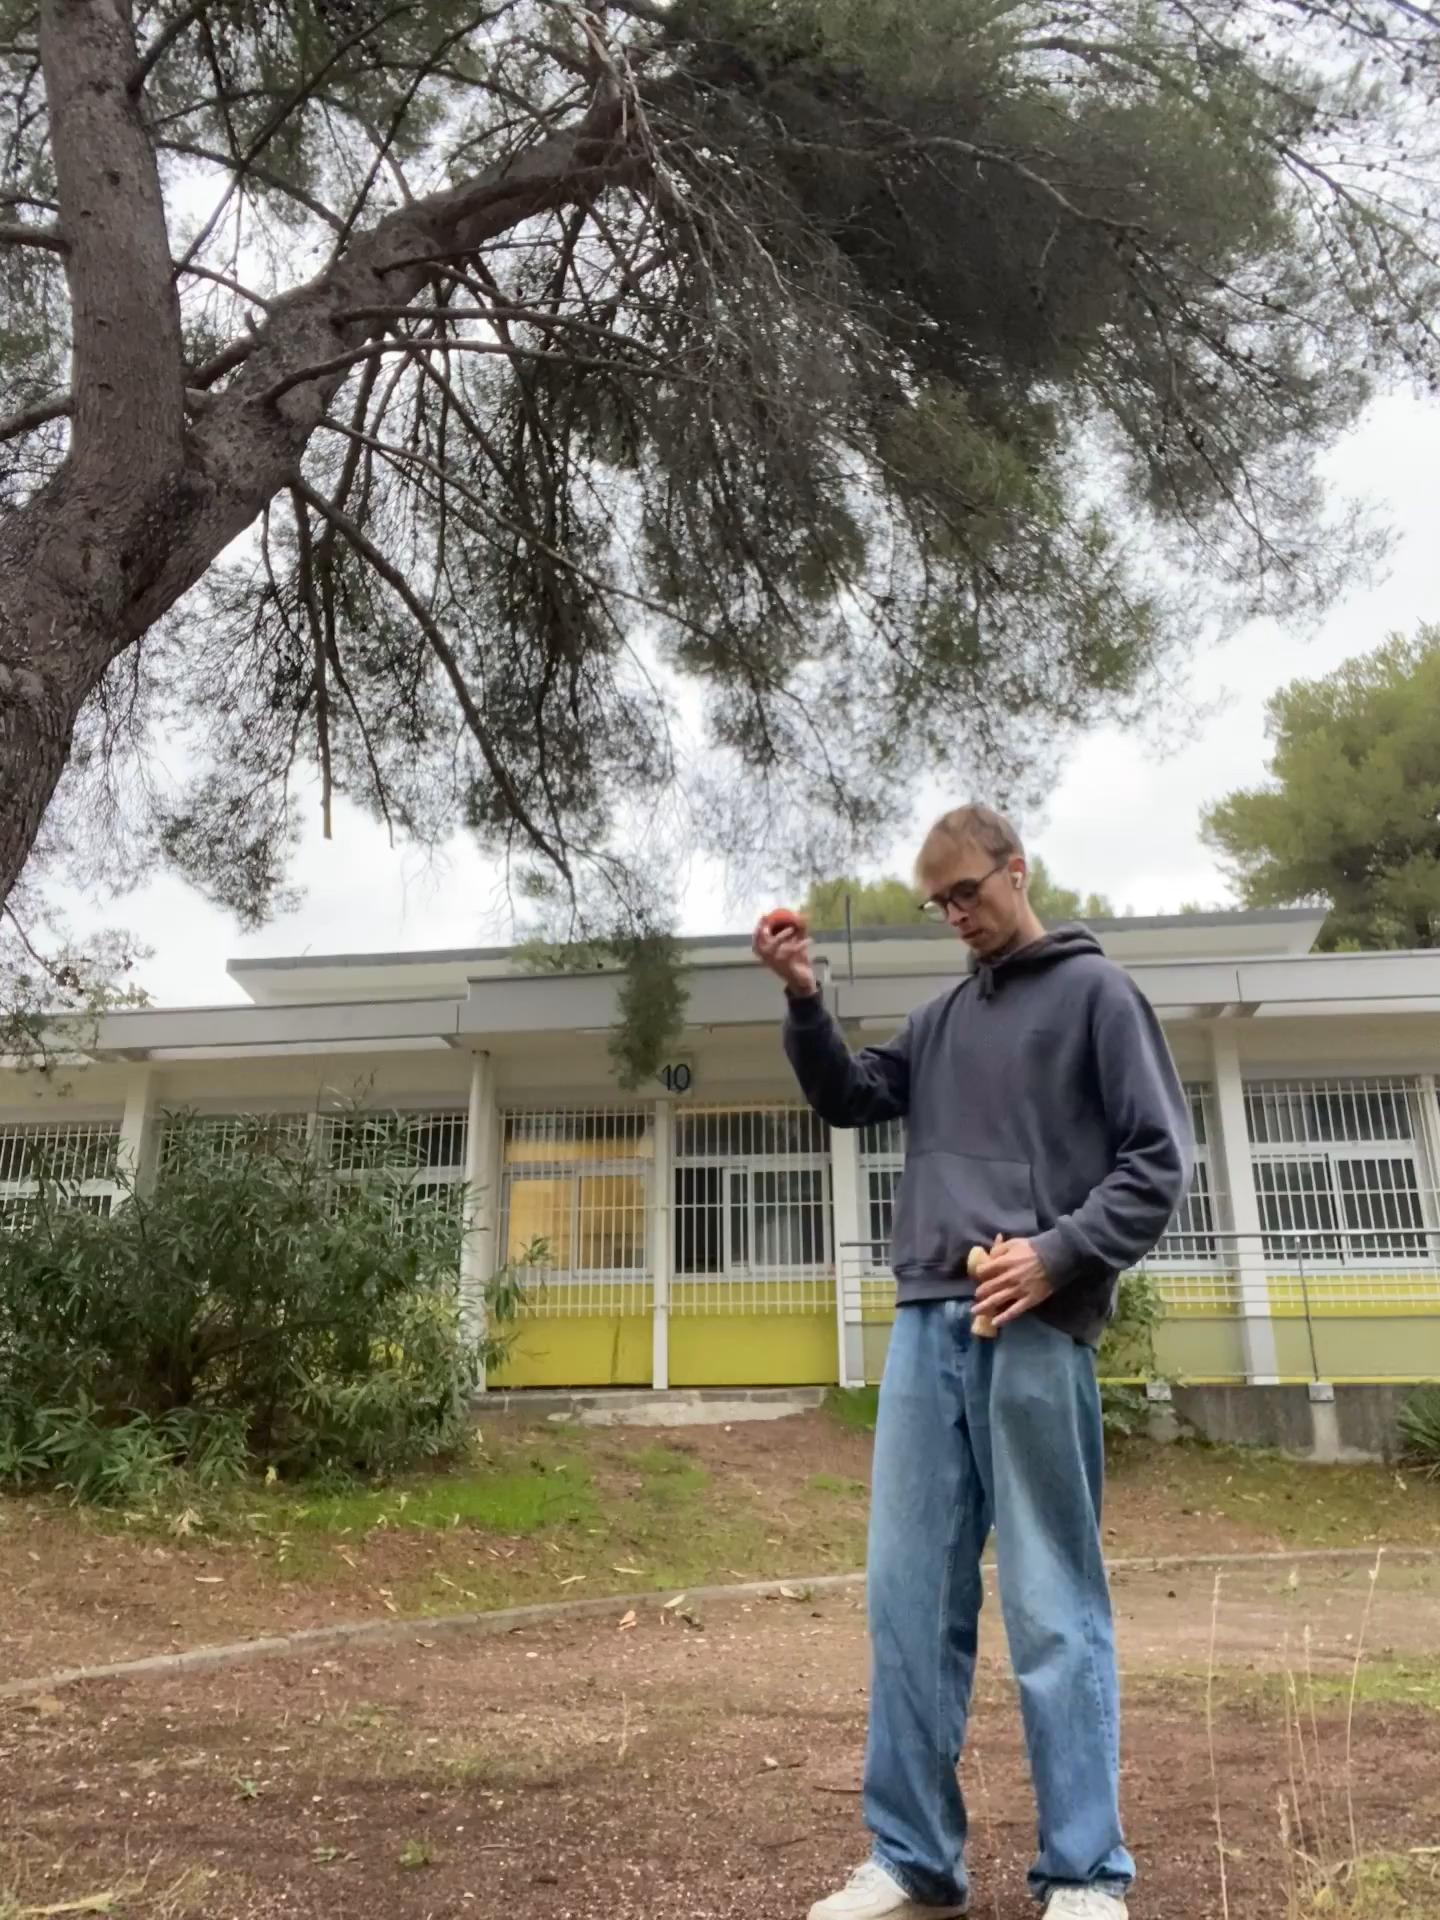kendama_ball: (767, 909, 799, 940)
